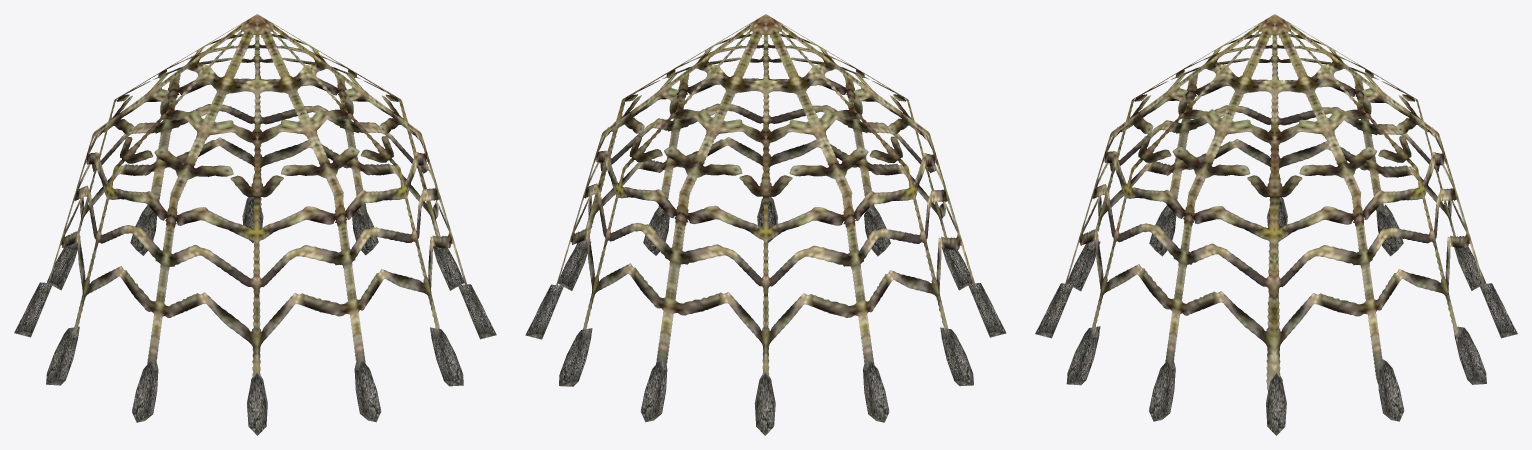
Rendered from eff_net_t-ef37812d.glb.
3 views of the same model, side by side, from view 1: azimuth 30°, elevation 25°; view 2: azimuth 150°, elevation 25°; view 3: azimuth 270°, elevation 25° (orthographic).
Parts seen in each view (by area): view 1: Eff_net_t; view 2: Eff_net_t; view 3: Eff_net_t.
Part boxes in pixels (box(x1,y1,x2,y2)): Eff_net_t: box(14, 14, 496, 435); Eff_net_t: box(525, 14, 1006, 435); Eff_net_t: box(1035, 14, 1517, 435).
Size of the model in its own units: 2.93 by 2.18 by 2.93.
1 material, 1 textured.
